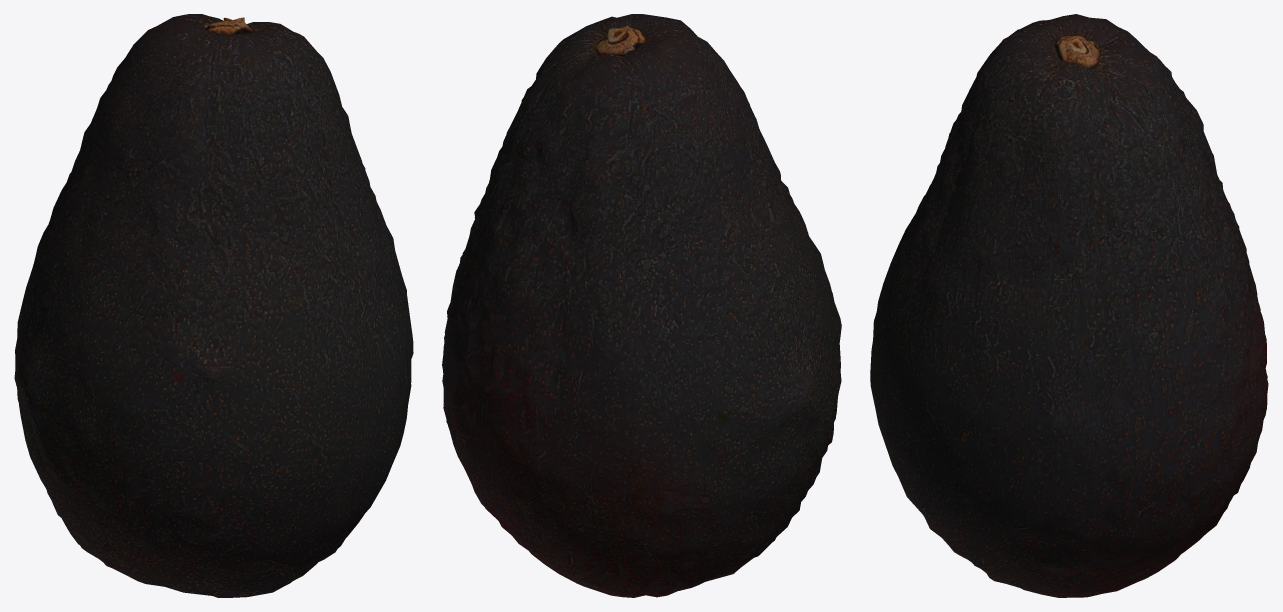
Rendered from food_avocado_01.glb.
The picture shows the model from 3 angles, left to right: view 1: azimuth 30°, elevation 25°; view 2: azimuth 150°, elevation 25°; view 3: azimuth 270°, elevation 25°; orthographic projection. The views are drawn at different scales.
Visible parts, largest first — view 1: food_avocado_01; view 2: food_avocado_01; view 3: food_avocado_01.
Boxes of the visible parts, x1,y1,x2,y2 form: food_avocado_01: (14,14,413,597); food_avocado_01: (442,14,841,597); food_avocado_01: (870,14,1268,597).
Bounding box in the file's own units: 0.0952 × 0.1432 × 0.0946.
Materials: 1 (1 with a texture image).
